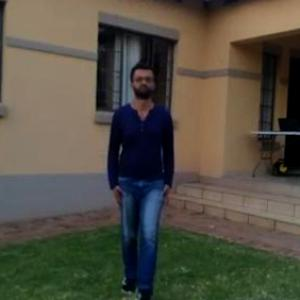follow: (109, 56, 178, 266)
